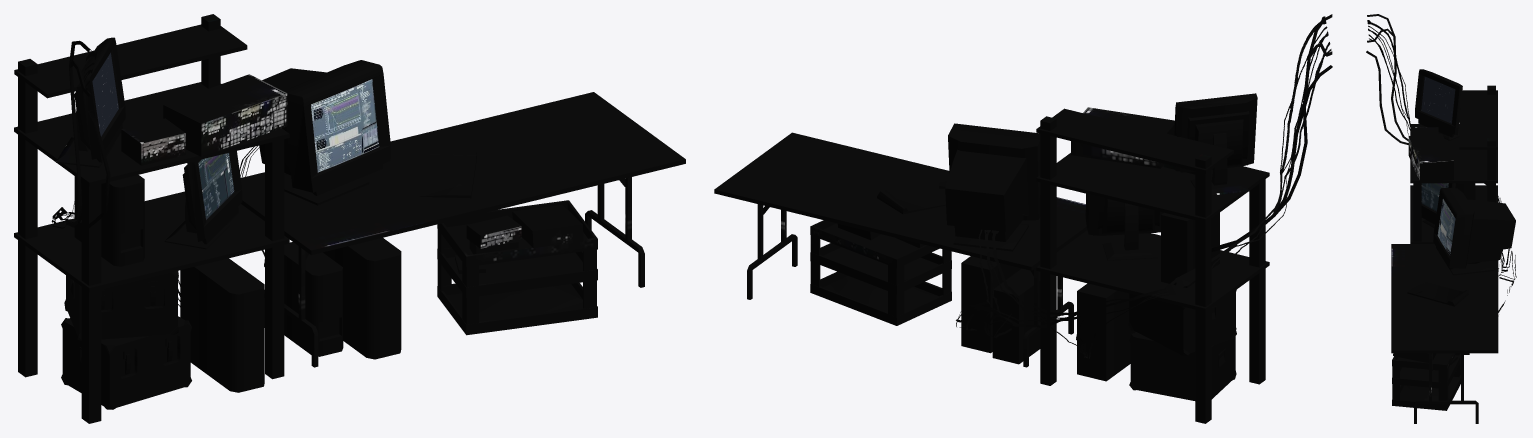
File: workspace001.glb
The picture shows the model from 3 angles, left to right: view 1: azimuth 30°, elevation 25°; view 2: azimuth 150°, elevation 25°; view 3: azimuth 270°, elevation 25°; orthographic projection. The views are drawn at different scales.
Parts seen in each view (by area): view 1: 3_workspace_sheet, 0_computer_disp, 1_warp_sheet, 2_workspace_wires; view 2: 3_workspace_sheet, 2_workspace_wires; view 3: 3_workspace_sheet, 1_warp_sheet, 2_workspace_wires, 0_computer_disp.
Boxes of the visible parts, <box> form: 3_workspace_sheet: <box>14,14,685,423</box>; 0_computer_disp: <box>198,79,379,219</box>; 1_warp_sheet: <box>92,52,118,136</box>; 2_workspace_wires: <box>51,50,264,306</box>; 3_workspace_sheet: <box>714,14,1332,423</box>; 2_workspace_wires: <box>956,16,1331,358</box>; 3_workspace_sheet: <box>1366,14,1515,423</box>; 1_warp_sheet: <box>1421,76,1455,123</box>; 2_workspace_wires: <box>1367,20,1516,312</box>; 0_computer_disp: <box>1421,183,1455,255</box>.
Size of the model in its own units: 3.66 by 2.31 by 1.33.
4 materials, 4 textured.
